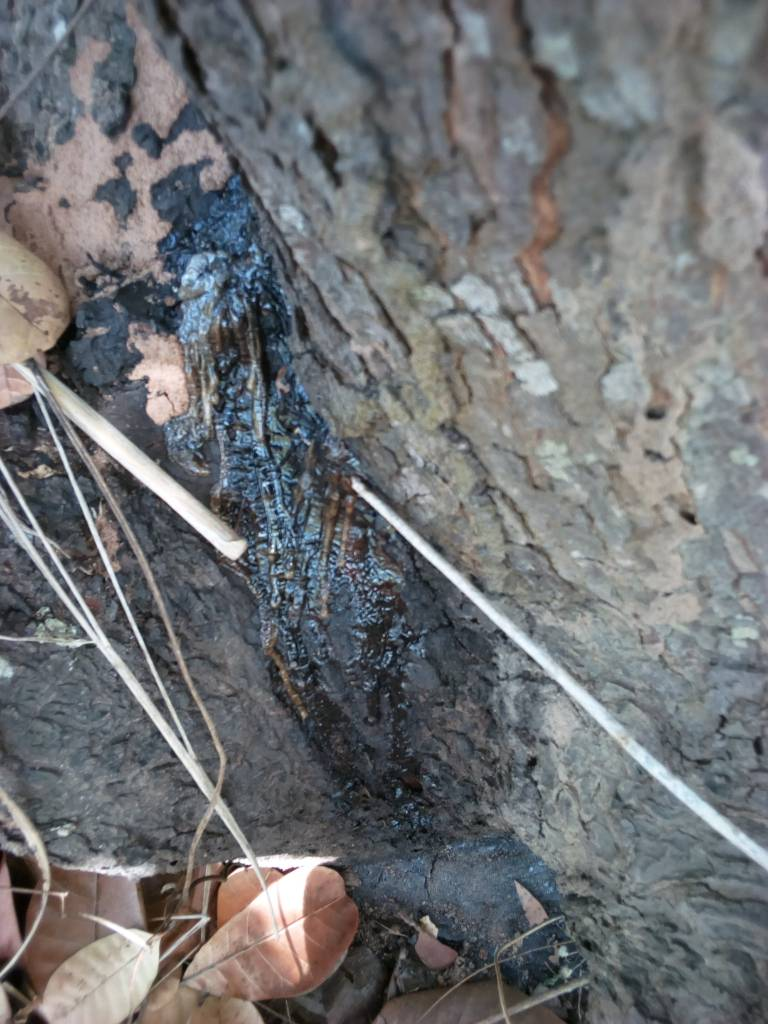Gommose: (190, 236, 496, 827)
